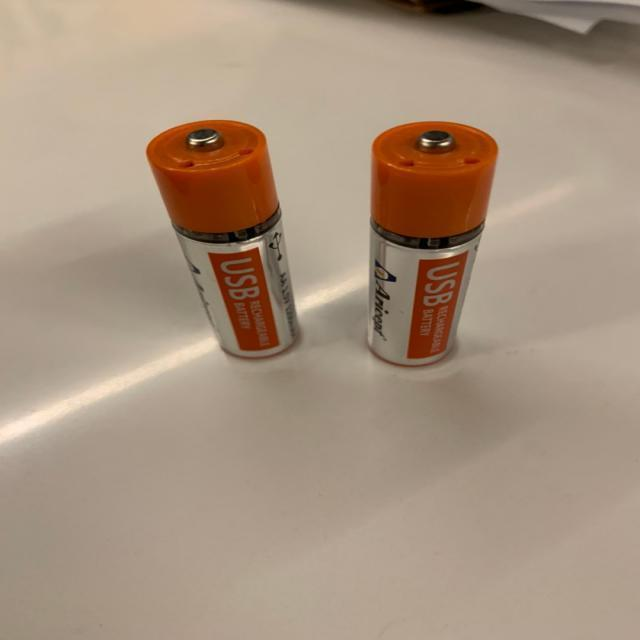Hazard: (144, 119, 302, 360), (366, 120, 500, 370)
